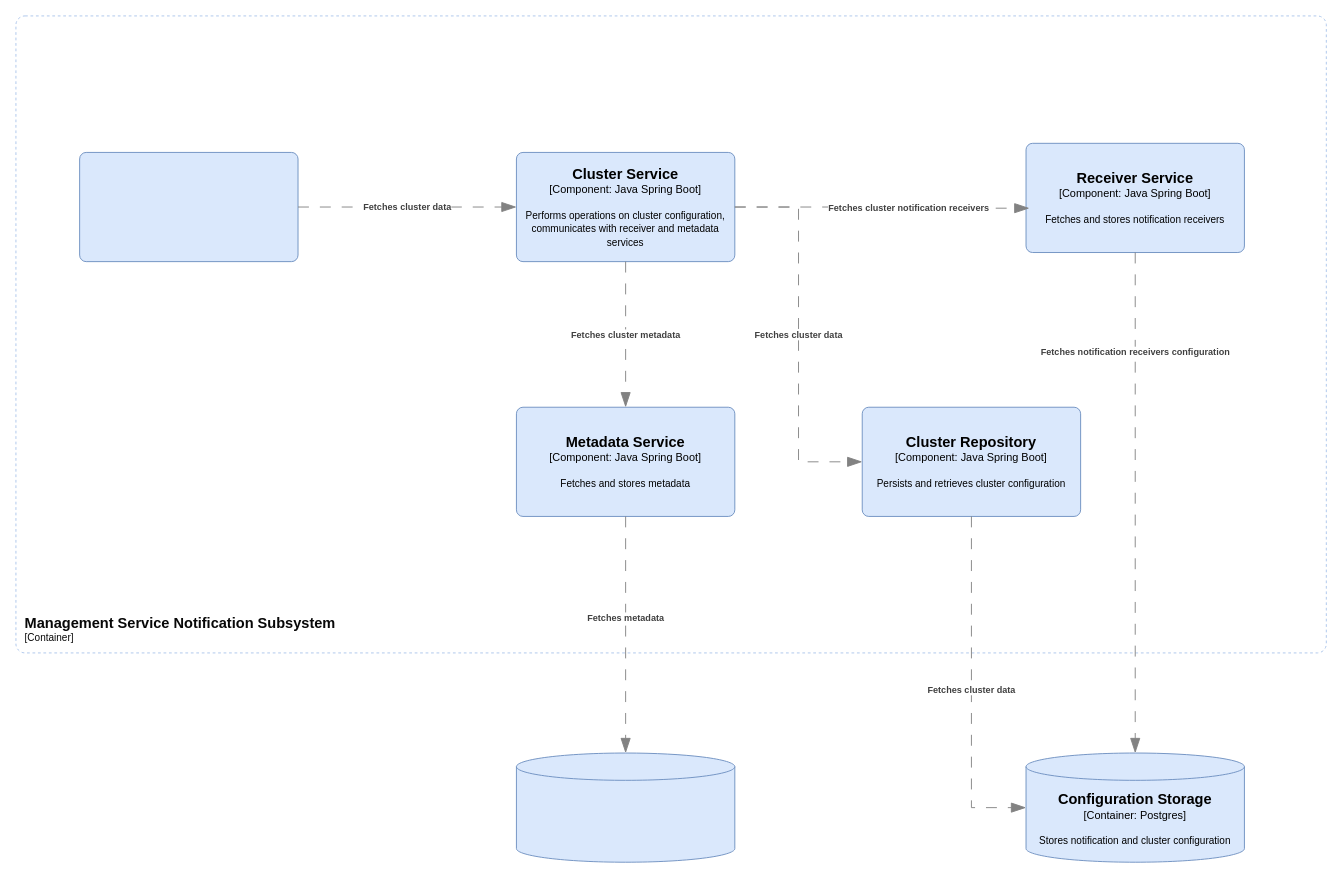
The diagram is 1342 pixels wide and 878 high, and some of its shapes have lost their labels. The shapes that lost their labels are listed below. From the top down, each one's centre as x and y in pixels, then its label:
(x=188, y=207): Cluster Controller [Component: Java Spring Boot] Cluster API
(x=625, y=807): Metadata Storage [Container: MongoDB] Stores metadata and aggregated metadata
